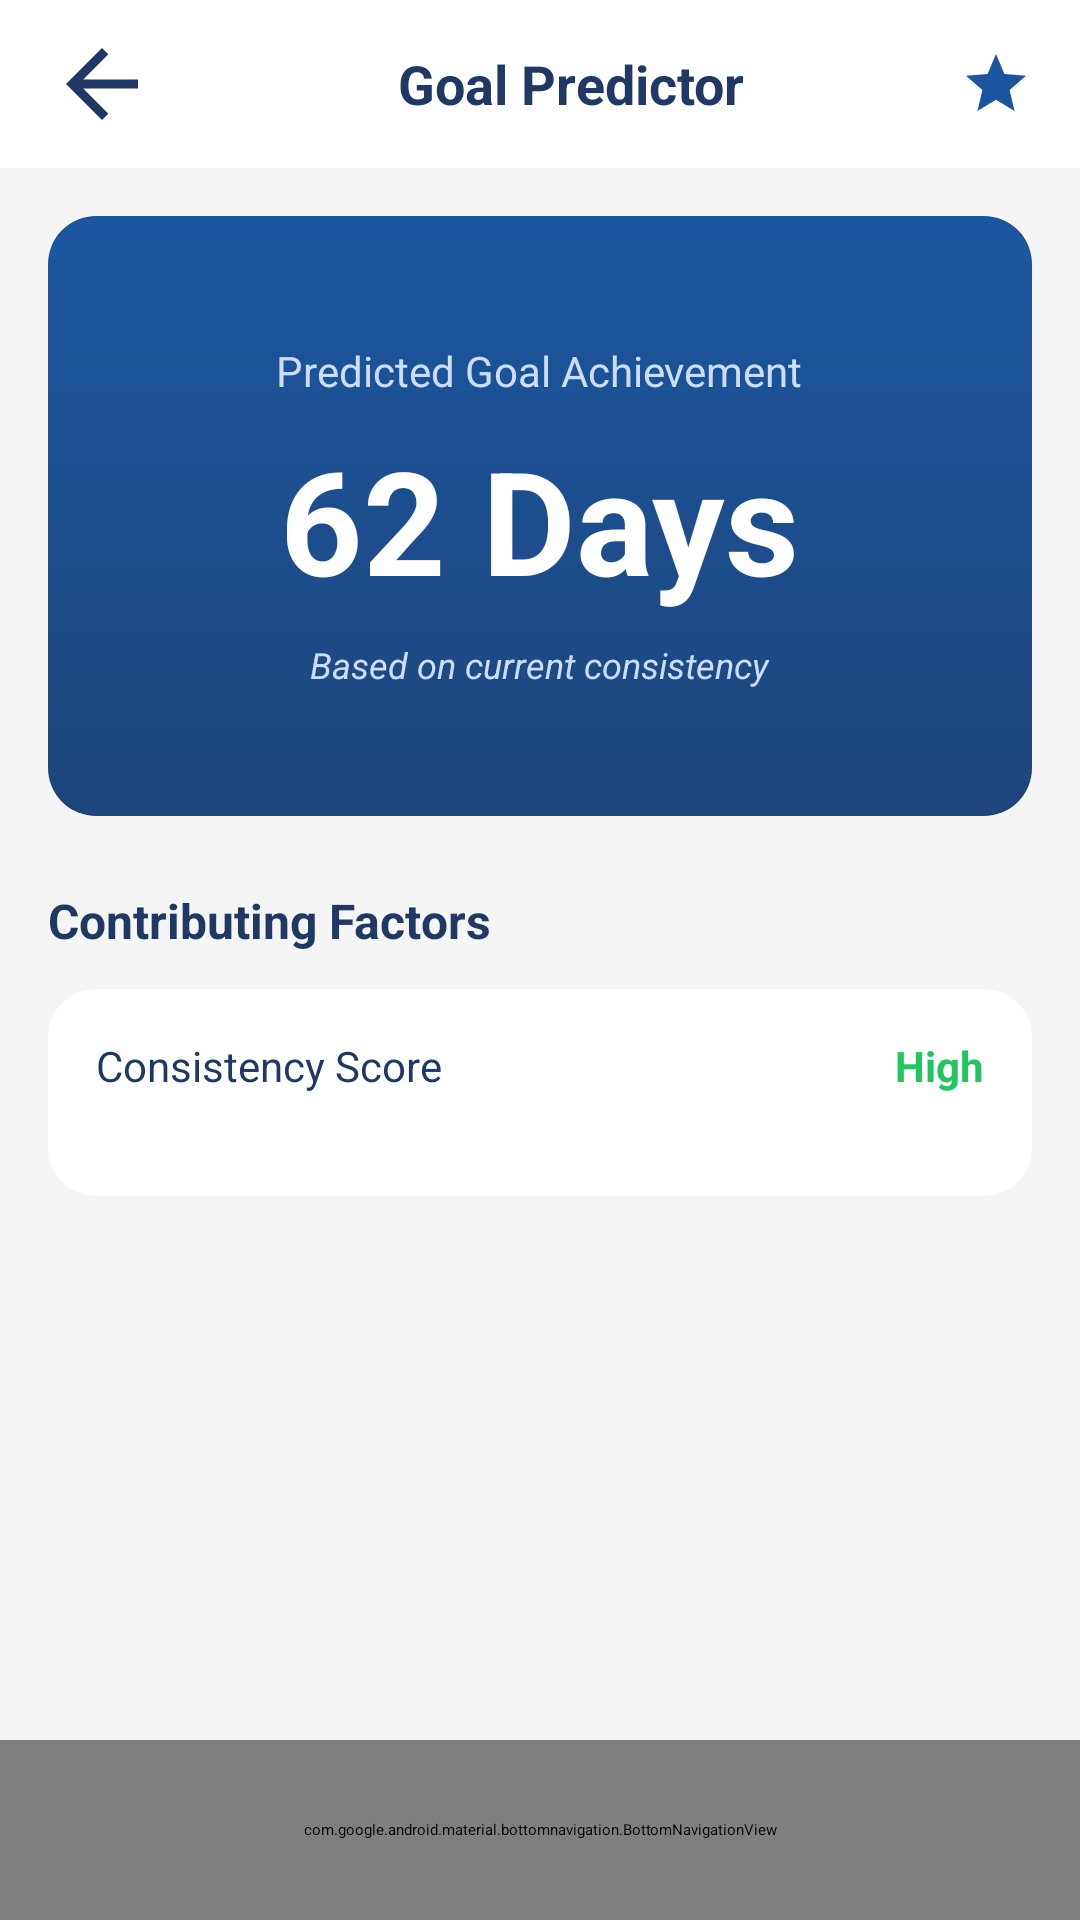

Named icons in this screenshot (1080px×1920px) and their centers, [x,y]:
back arrow: [102,84]
